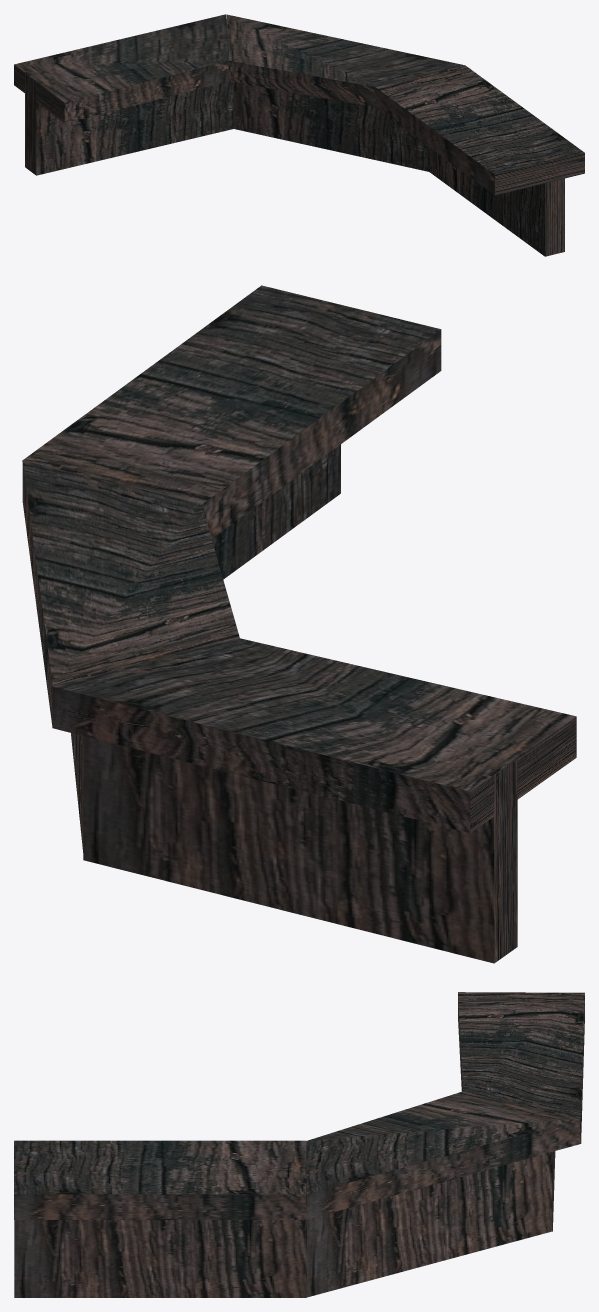
The model's file is Counter.glb.
The picture shows the model from 3 angles, top to bottom: view 1: azimuth 30°, elevation 25°; view 2: azimuth 150°, elevation 25°; view 3: azimuth 270°, elevation 25°; orthographic projection. The views are drawn at different scales.
Visible parts, largest first — view 1: Cube.001, Cube.004, Cube.002, Cube.005, Cube.003, Cube; view 2: Cube.004, Cube.005, Cube.001, Cube.002, Cube, Cube.003; view 3: Cube.001, Cube, Cube.003, Cube.002, Cube.004.
Boxes of the visible parts, x1=… form: Cube.001: x1=375, y1=65, x2=584, y2=195; Cube.004: x1=14, y1=14, x2=229, y2=123; Cube.002: x1=226, y1=14, x2=464, y2=107; Cube.005: x1=25, y1=73, x2=233, y2=175; Cube.003: x1=233, y1=82, x2=429, y2=171; Cube: x1=429, y1=147, x2=564, y2=256; Cube.004: x1=52, y1=638, x2=576, y2=832; Cube.005: x1=83, y1=736, x2=517, y2=963; Cube.001: x1=23, y1=285, x2=441, y2=538; Cube.002: x1=22, y1=460, x2=239, y2=724; Cube: x1=212, y1=444, x2=340, y2=579; Cube.003: x1=71, y1=733, x2=83, y2=852; Cube.001: x1=14, y1=1140, x2=306, y2=1219; Cube: x1=14, y1=1220, x2=306, y2=1297; Cube.003: x1=305, y1=1152, x2=552, y2=1297; Cube.002: x1=306, y1=1091, x2=580, y2=1219; Cube.004: x1=458, y1=992, x2=584, y2=1143.
Size of the model in its own units: 5.67 by 1.51 by 6.76.
Materials: 3 (3 with a texture image).
